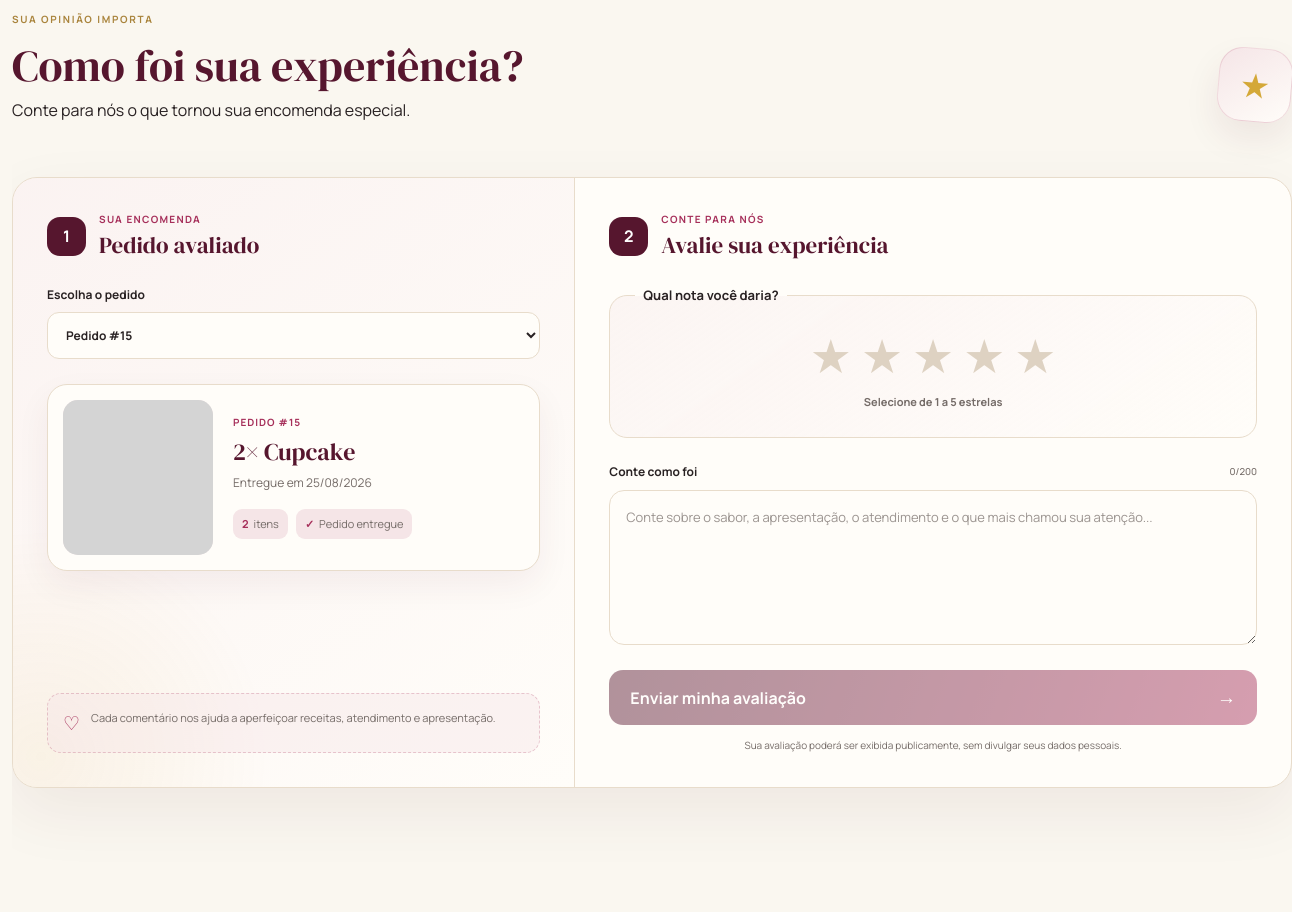
Scenario: Review › permite escolher entre vários pedidos
The image size is (1292, 912).
Select "Pedido #16" in the dropdown labelled "Escolha o pedido" at (294, 335), box [47, 312, 540, 358]
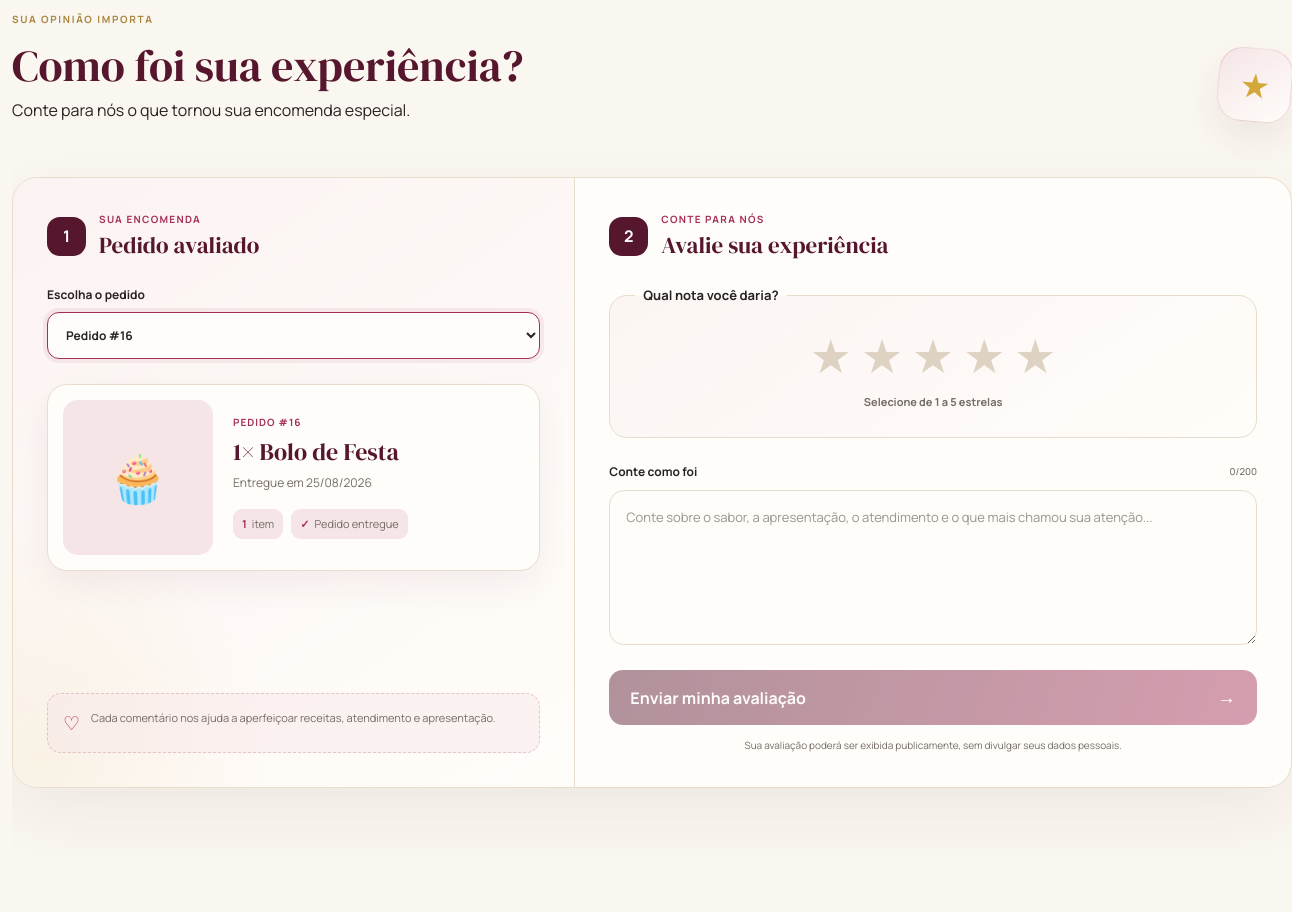
Expected: the text "PEDIDO #16" is shown, [233, 415, 302, 429]
Expected: the heading "1× Bolo de Festa" is shown, [233, 435, 399, 468]
